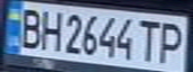2: (60, 10, 84, 55)
4: (96, 13, 121, 60), (115, 15, 139, 61)
6: (78, 11, 100, 56)
B: (12, 4, 45, 50)
H: (36, 7, 63, 52)
P: (154, 18, 190, 65)
T: (136, 17, 163, 63)
